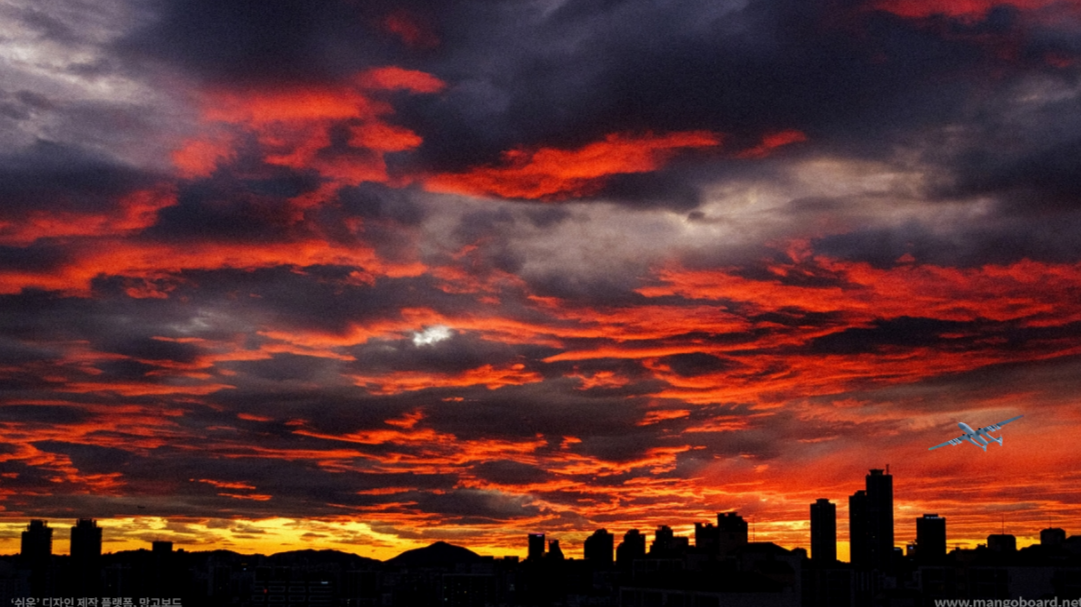military drone: (928, 413, 1024, 452)
